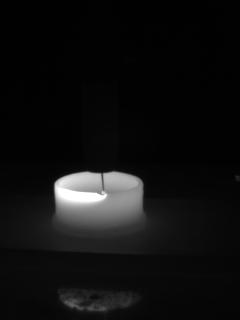tip_wire_left: (86, 166, 105, 194)
tip_wire_right: (102, 165, 117, 194)
